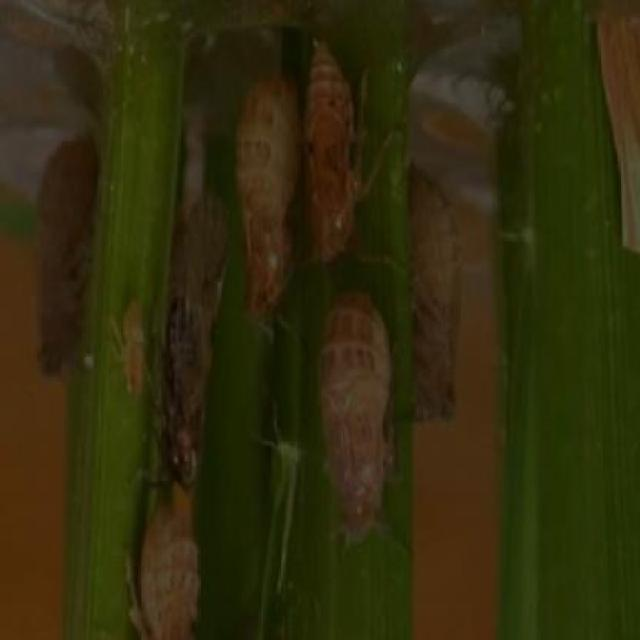brown-planthopper: (313, 290, 392, 548), (32, 121, 100, 384), (232, 62, 298, 318), (402, 155, 460, 428), (305, 42, 360, 267), (113, 296, 149, 398)
